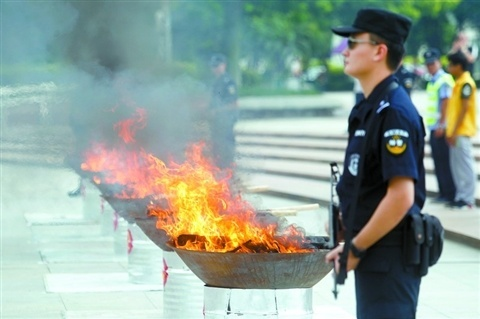fire: (79, 117, 303, 256)
